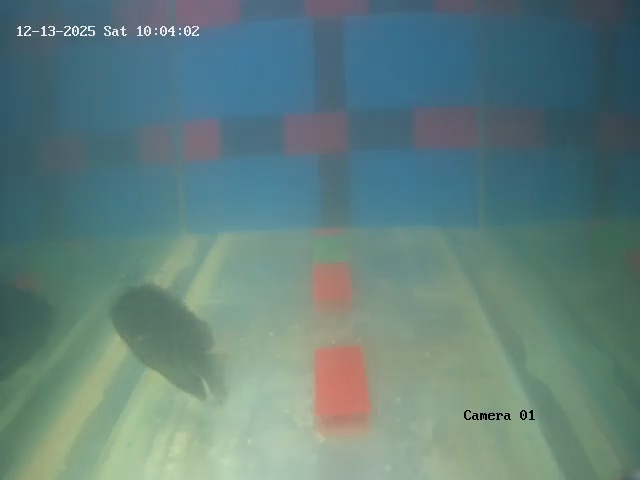fish: (108, 276, 221, 398)
